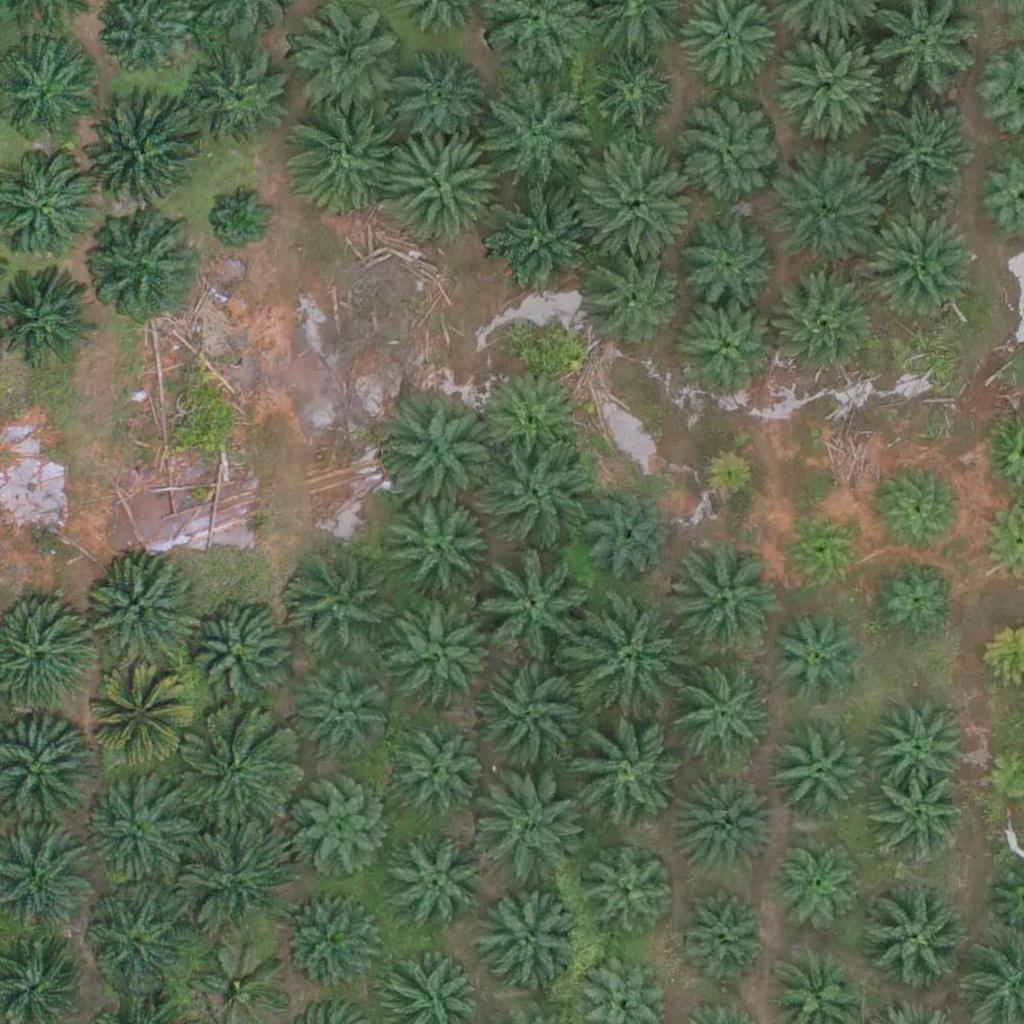Kelapa_Sawit: (859, 879, 972, 993), (474, 659, 587, 772), (176, 824, 289, 937), (180, 712, 293, 825), (475, 65, 588, 178), (488, 182, 601, 295), (382, 129, 495, 242), (279, 103, 392, 216), (571, 606, 684, 719), (477, 555, 590, 668), (382, 398, 495, 511), (179, 600, 292, 713), (83, 99, 196, 212), (473, 776, 585, 890), (859, 106, 971, 220), (863, 210, 975, 324), (765, 267, 877, 381), (567, 715, 679, 828), (773, 156, 885, 269), (773, 29, 885, 142), (580, 141, 692, 254), (668, 542, 780, 655), (483, 438, 595, 551), (385, 588, 497, 701), (279, 551, 391, 664), (82, 557, 194, 670), (85, 215, 197, 328), (868, 695, 968, 796), (762, 608, 862, 709), (769, 724, 869, 825), (675, 664, 775, 765), (580, 837, 680, 938), (480, 892, 580, 993), (385, 834, 485, 935), (283, 889, 383, 990), (81, 778, 181, 879), (83, 890, 183, 991), (679, 103, 779, 204), (681, 212, 781, 313), (576, 251, 676, 352), (389, 48, 489, 149), (482, 368, 582, 469), (390, 502, 490, 603), (193, 49, 293, 150), (671, 779, 771, 879), (286, 784, 386, 884), (87, 672, 187, 772), (681, 298, 781, 398), (772, 846, 860, 935), (877, 775, 965, 863), (677, 890, 765, 978), (876, 463, 964, 551), (876, 555, 964, 643), (584, 49, 672, 137), (589, 488, 677, 576), (397, 729, 484, 817), (299, 674, 386, 762), (777, 505, 864, 593), (203, 178, 278, 253), (694, 446, 757, 509)
